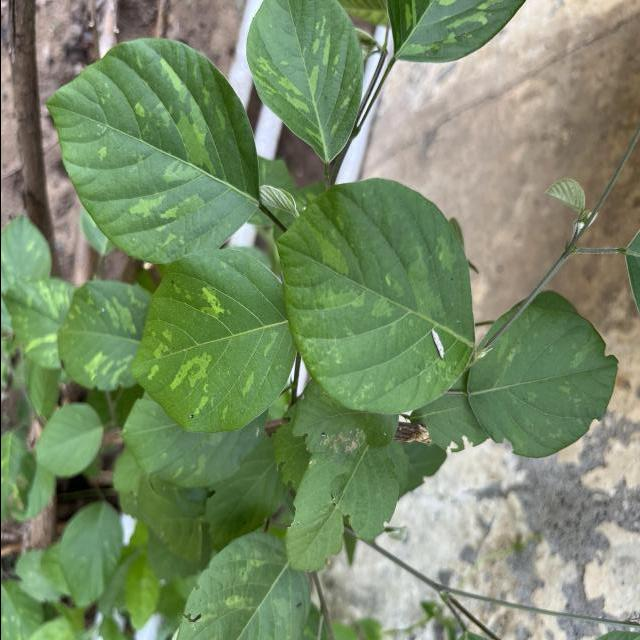Desmodium gangeticum: (41, 33, 265, 268), (268, 174, 478, 420), (129, 243, 297, 440), (242, 0, 367, 167)
